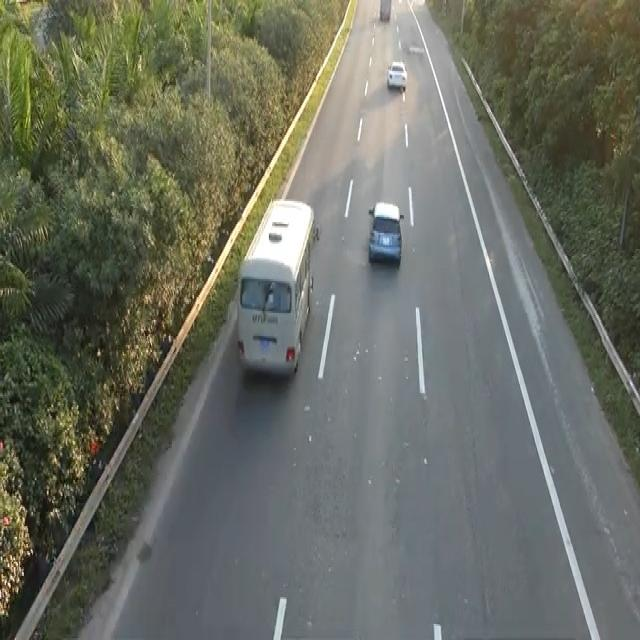bus: (366, 197, 404, 267)
jeep: (234, 194, 316, 378)
